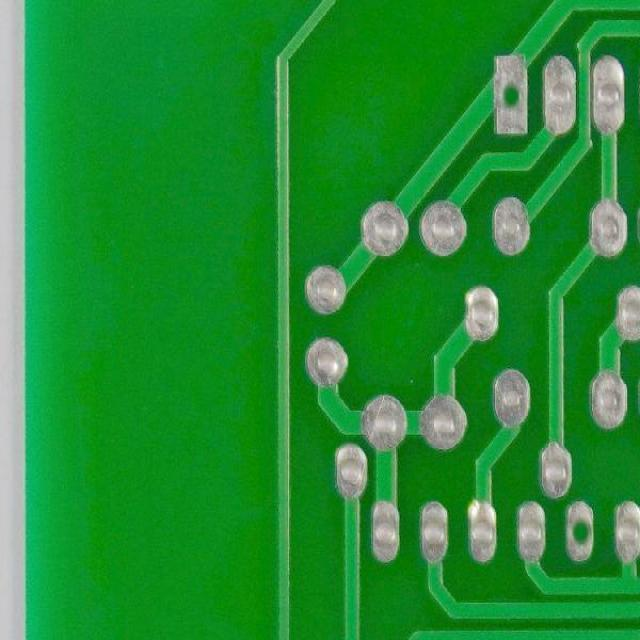missing hole: (489, 45, 531, 139), (559, 497, 597, 564)
